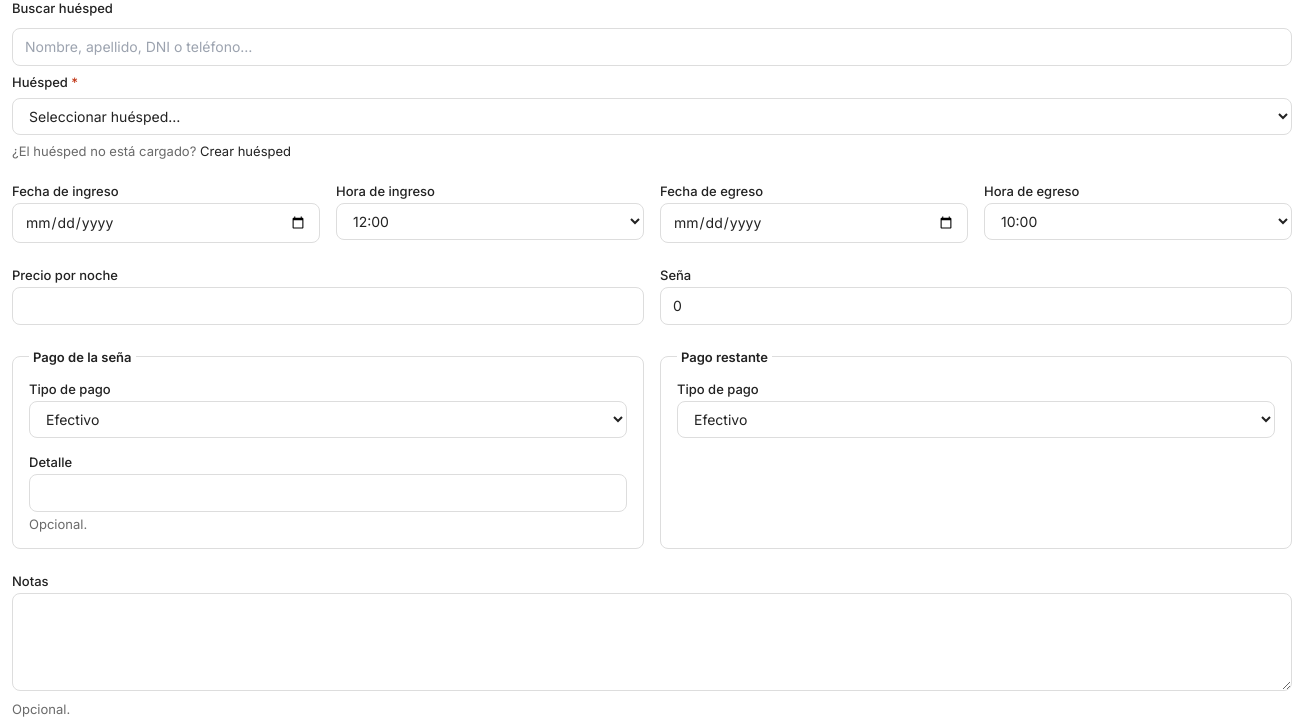
Scenario: BookingForm payment split › counts the nights as soon as the stay dates are complete
Type "2026-10-10" into the date field labelled "Fecha de ingreso".
click(166, 223); type("2026-10-10")  # box [12, 203, 320, 243]
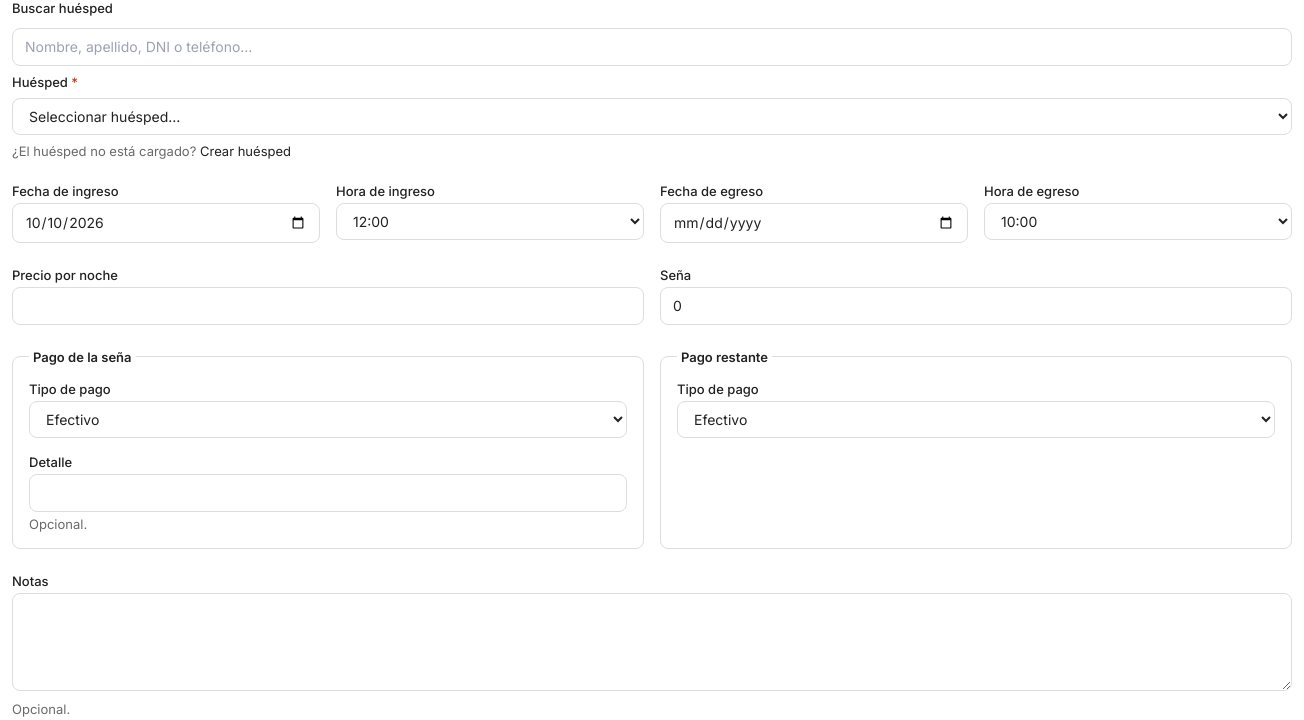
Type "2026-10-13" into the date field labelled "Fecha de egreso".
click(814, 223); type("2026-10-13")  # box [660, 203, 968, 243]
(page scrolled)
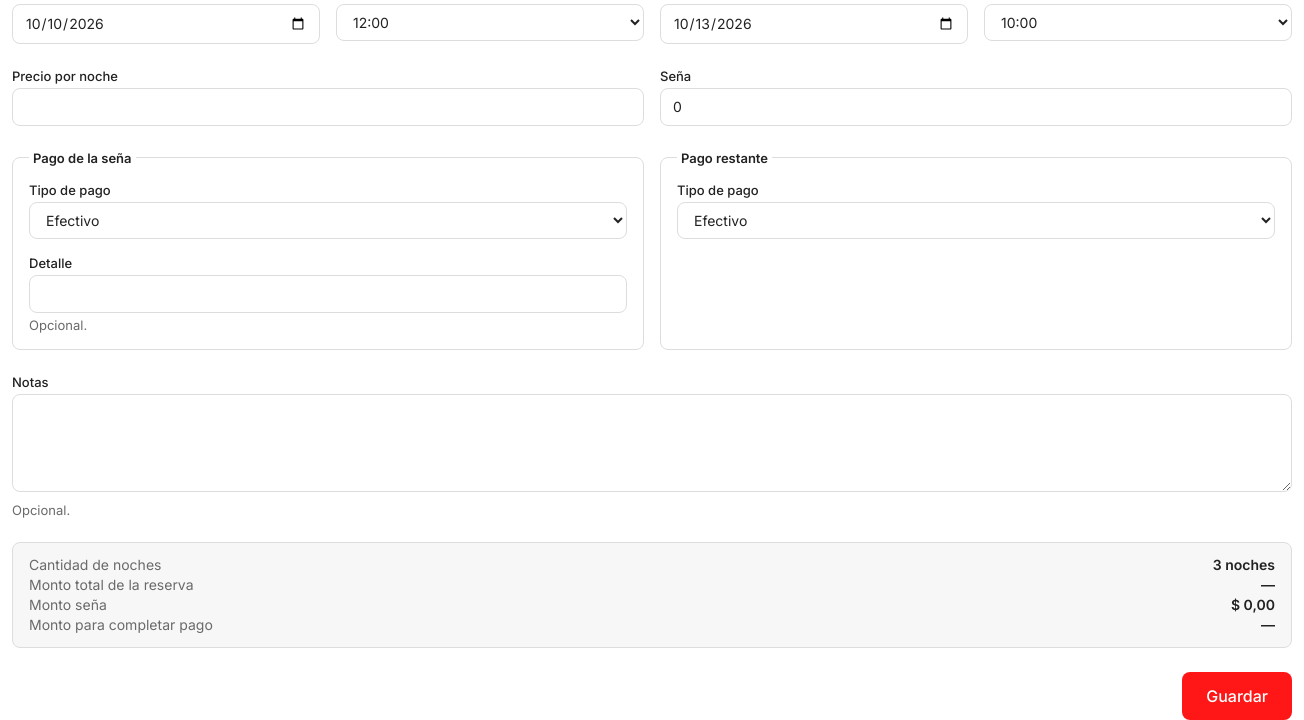
Expected: the text "Cantidad de noches" is shown, [29, 555, 162, 575]
Expected: the text "3 noches" is shown, [1213, 555, 1275, 575]
